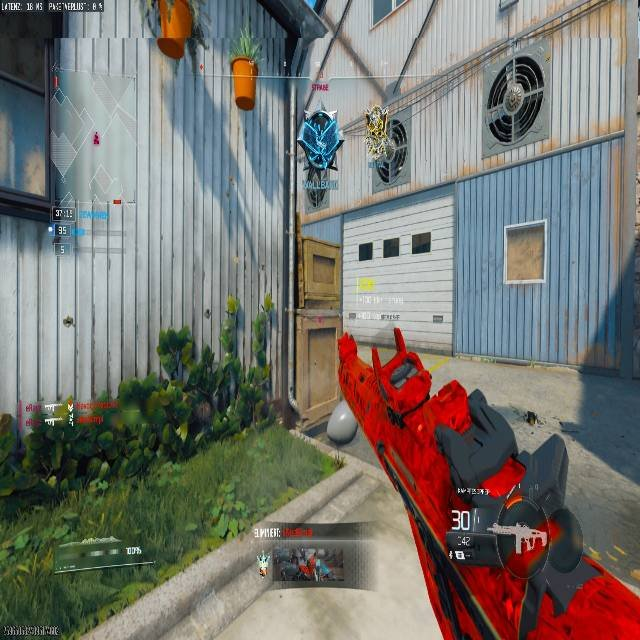player: (298, 105, 342, 208), (363, 109, 407, 184)
